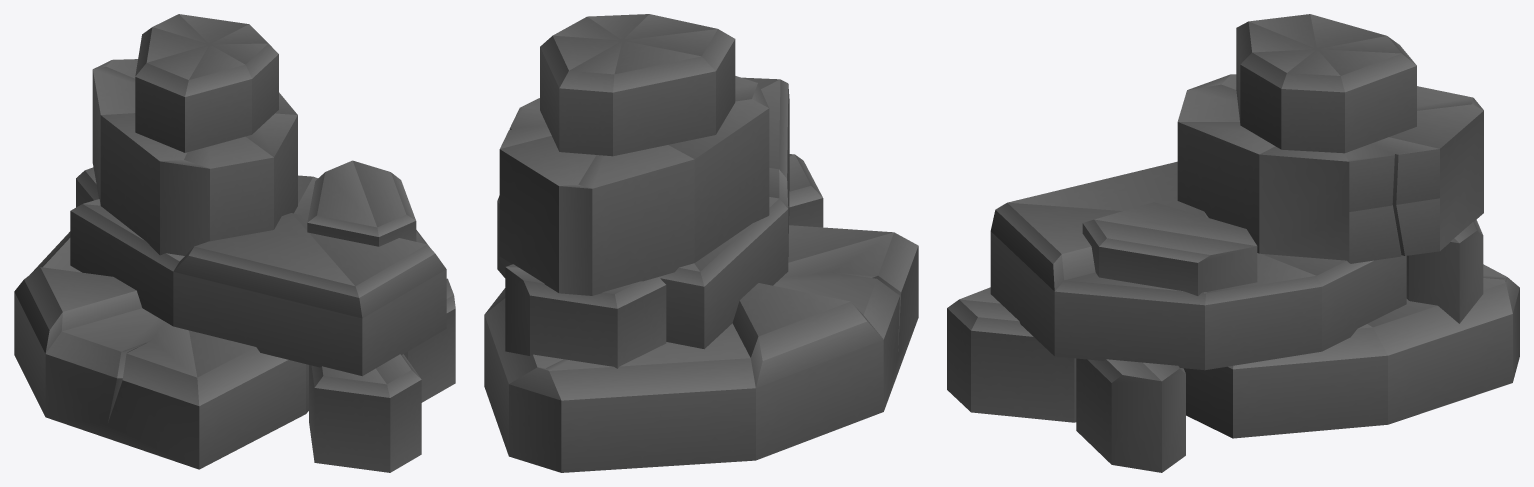
Rendered from pack02_rocks_02.fbx.
The picture shows the model from 3 angles, left to right: view 1: azimuth 30°, elevation 25°; view 2: azimuth 150°, elevation 25°; view 3: azimuth 270°, elevation 25°; orthographic projection. The views are drawn at different scales.
Visible parts, largest first — view 1: Rock Type1 02 mesh; view 2: Rock Type1 02 mesh; view 3: Rock Type1 02 mesh.
Boxes of the visible parts, left/top/right/bottom form: Rock Type1 02 mesh: left=14, top=14, right=455, bottom=472; Rock Type1 02 mesh: left=484, top=14, right=918, bottom=472; Rock Type1 02 mesh: left=947, top=14, right=1519, bottom=472.
Bounding box in the file's own units: 192 × 155 × 240.
1 material, 1 textured.
